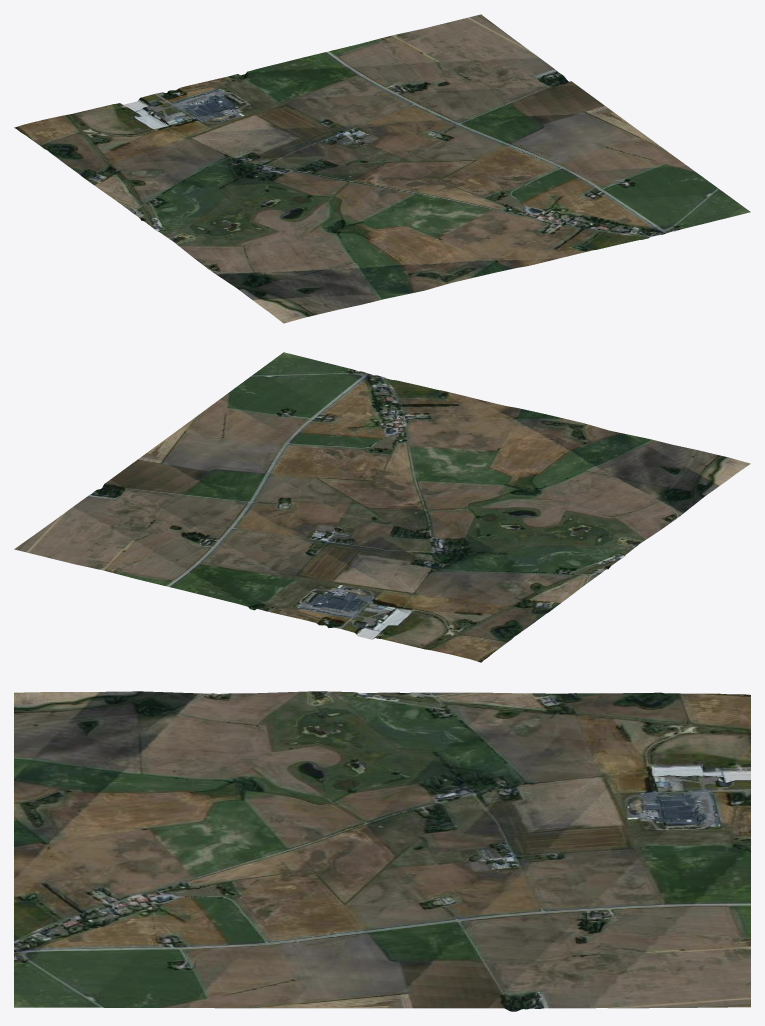
Rendered from map_10_252_430.dae.
3 views of the same model, one above another, from view 1: azimuth 30°, elevation 25°; view 2: azimuth 150°, elevation 25°; view 3: azimuth 270°, elevation 25° (orthographic). The views are drawn at different scales.
Parts seen in each view (by area): view 1: Ter0; view 2: Ter0; view 3: Ter0.
Boxes of the visible parts, x1=… form: Ter0: x1=14, y1=14, x2=750, y2=323; Ter0: x1=14, y1=352, x2=750, y2=662; Ter0: x1=14, y1=691, x2=750, y2=1011.
Bounding box in the file's own units: 2044 × 2044 × 35.5.
3 materials, 3 textured.
